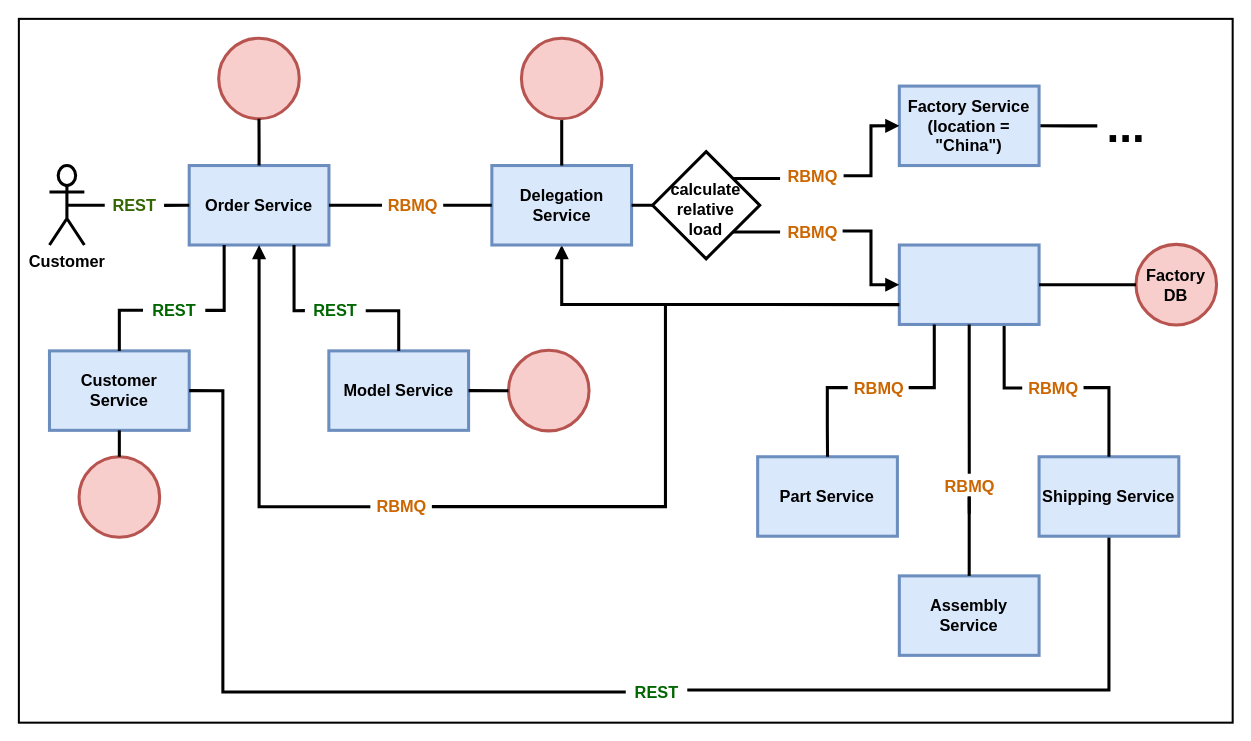
Image size: 1251x741. Some labels were removed from this diagram. The centre of each missing label's shape, as x and y in pixels:
Customer DB: (119,496)
Factory Service (location = "USA"): (968,284)
Factory Status DB: (561,78)
Model DB: (548,390)
Order DB: (258,78)
